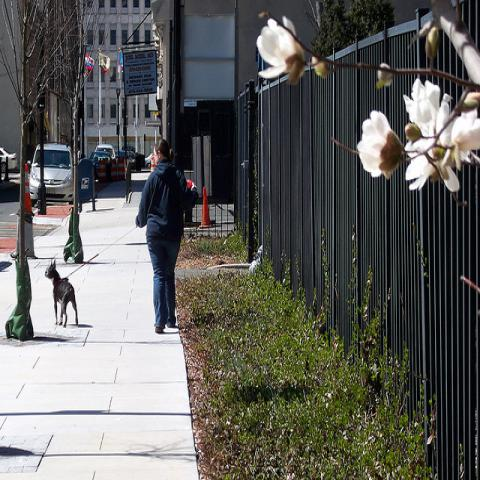car: (27, 144, 74, 206), (0, 148, 17, 174), (95, 142, 117, 160), (90, 151, 112, 166), (144, 154, 154, 168)
